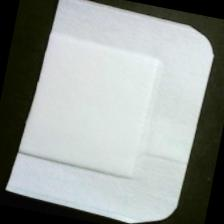Cut: (3, 1, 223, 224)
